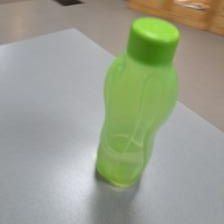bottle: (94, 15, 181, 187)
